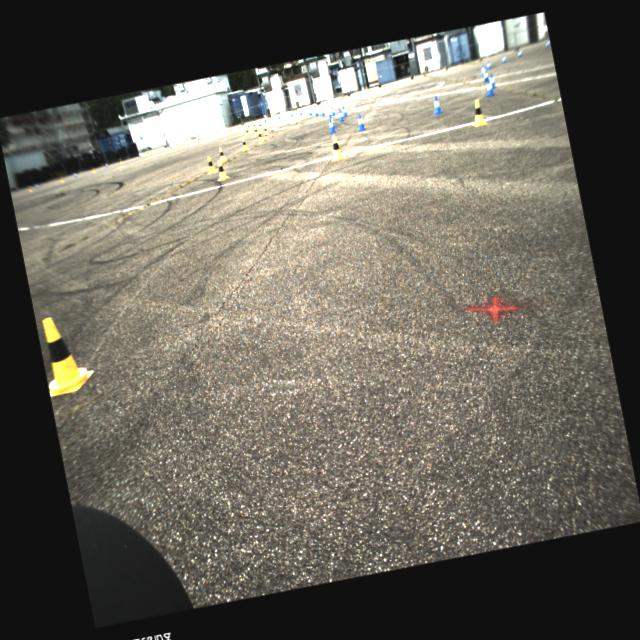blue_cone: (430, 93, 444, 115), (483, 80, 496, 98), (354, 114, 366, 130), (326, 116, 336, 134), (486, 74, 497, 90), (482, 70, 491, 84), (337, 109, 345, 122), (328, 116, 336, 128), (340, 105, 348, 117), (328, 105, 336, 116), (320, 106, 326, 116), (486, 62, 491, 69), (277, 112, 281, 120), (308, 108, 312, 116), (314, 108, 318, 116), (482, 68, 486, 76), (481, 66, 485, 74), (502, 57, 507, 63), (299, 108, 303, 115), (290, 110, 294, 116), (312, 106, 316, 112), (222, 128, 225, 134), (169, 143, 172, 148), (74, 173, 77, 178), (246, 121, 248, 128), (264, 117, 266, 122), (198, 135, 200, 140), (139, 153, 141, 157), (106, 164, 108, 168)
yellow_cone: (36, 311, 96, 396), (468, 99, 488, 128), (327, 133, 346, 161), (214, 159, 229, 181), (205, 155, 218, 174), (217, 146, 227, 162), (240, 136, 250, 151), (257, 130, 264, 142), (263, 126, 269, 136), (253, 127, 259, 136), (245, 128, 251, 136), (252, 123, 257, 130), (258, 123, 263, 130), (92, 168, 96, 174), (60, 176, 64, 182), (229, 127, 232, 133), (199, 135, 202, 140), (176, 142, 178, 148), (248, 124, 250, 130), (147, 150, 149, 156), (218, 131, 220, 136), (120, 159, 122, 164), (239, 126, 241, 130)
